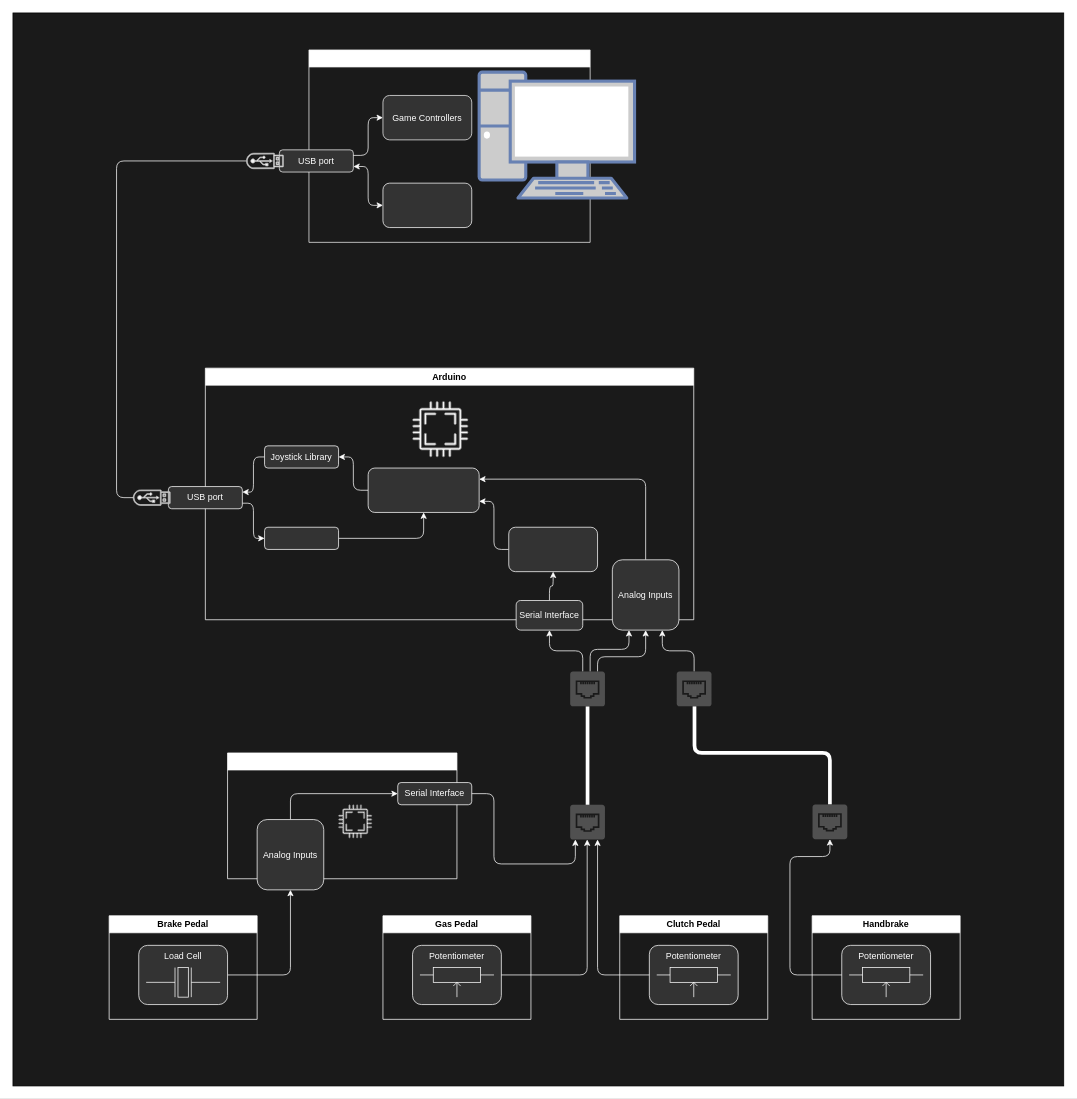
Some shapes in this 1077 by 1099 pixel diagram are drawn without their labels. The shapes that lost their labels are listed below. From the top down, each one's box as (x1, y1, x2, y2) in pixels, then its label:
(308, 49, 590, 242): PC
(382, 182, 472, 228): Calibration SW
(367, 467, 479, 512): Signal Processing Signal Filtering Signal Mapping
(264, 527, 339, 549): Stored Calibration Values
(508, 527, 598, 572): HX711 Library
(227, 752, 457, 879): HX711 Load Cell Amplifier 24-Bit
